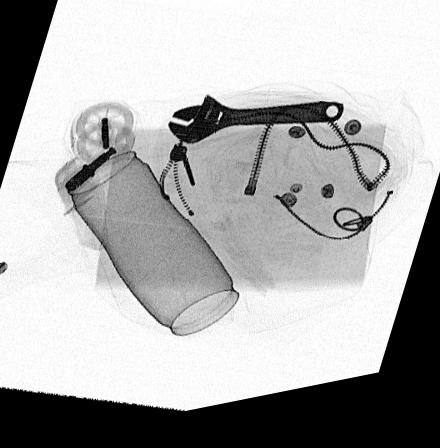Wrench: (168, 100, 345, 154)
